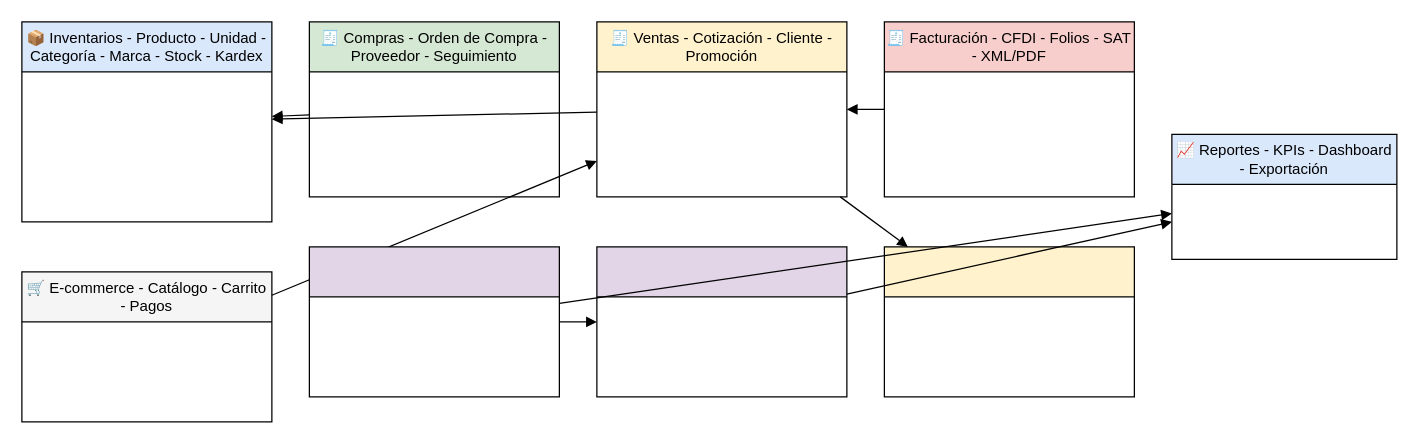
The diagram is 1419 pixels wide and 444 high, and some of its shapes have lost their labels. The shapes that lost their labels are listed below. From the top down, each one's centre as x and y in pixels, then its label:
the point at 433,321: 💰 Finanzas - Ingreso - Egreso - Presupuesto
the point at 721,321: 📚 Contabilidad - Asientos - Cuentas - Balances
the point at 1008,321: 📋 CRM - Seguimiento - Proyectos - Recordatorios
